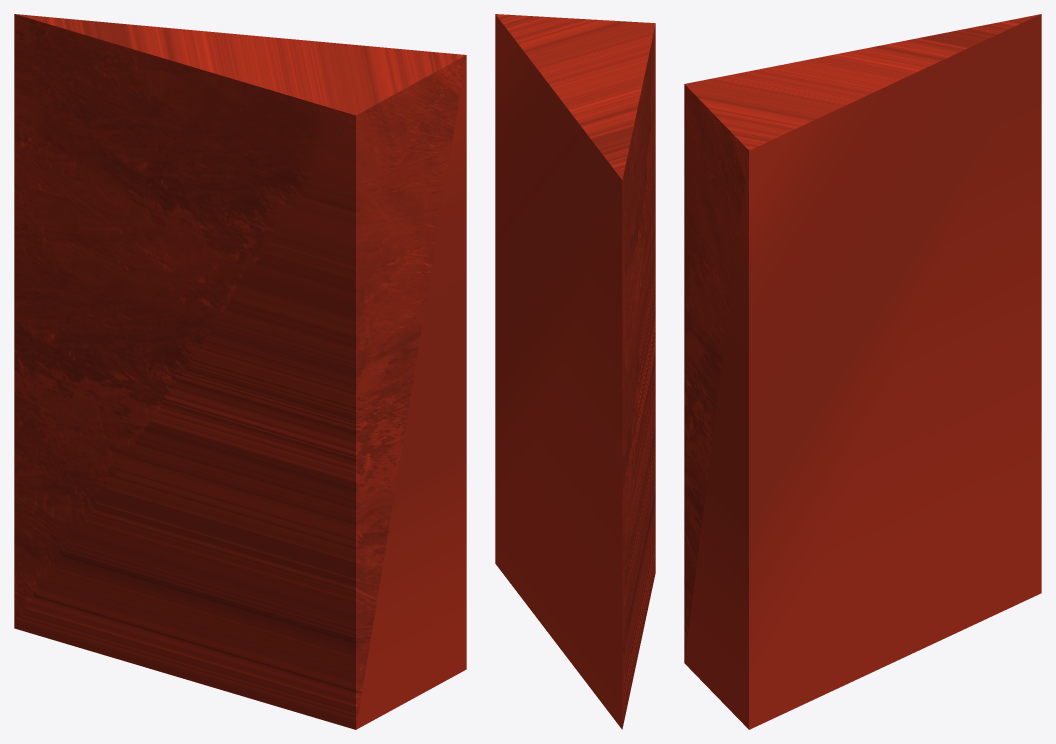
File: orange2.FBX
3 renders of one model, left to right at view 1: azimuth 30°, elevation 25°; view 2: azimuth 150°, elevation 25°; view 3: azimuth 270°, elevation 25°, orthographic. The views are drawn at different scales.
Parts seen in each view (by area): view 1: Ligne027; view 2: Ligne027; view 3: Ligne027.
Part boxes in pixels (bbox=[...]): Ligne027: bbox=[14, 14, 466, 729]; Ligne027: bbox=[495, 14, 655, 729]; Ligne027: bbox=[684, 14, 1041, 729].
Bounding box in the file's own units: 5.58 × 11.03 × 6.16.
Materials: 1 (1 with a texture image).
